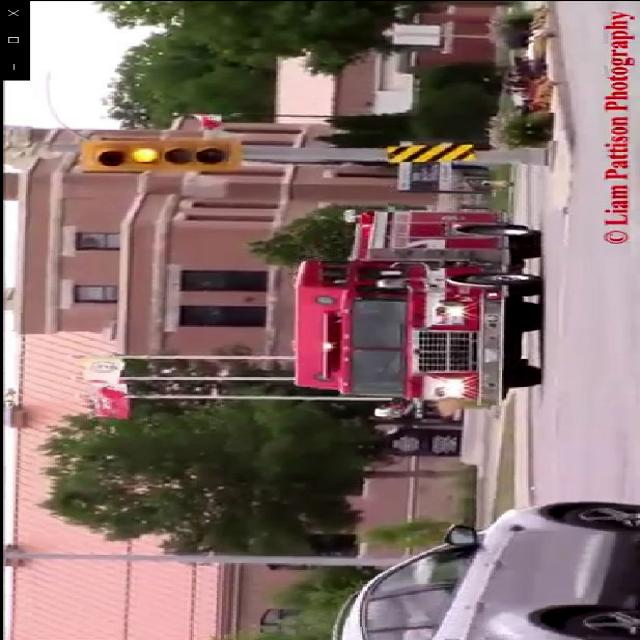emergency: (280, 204, 557, 418)
